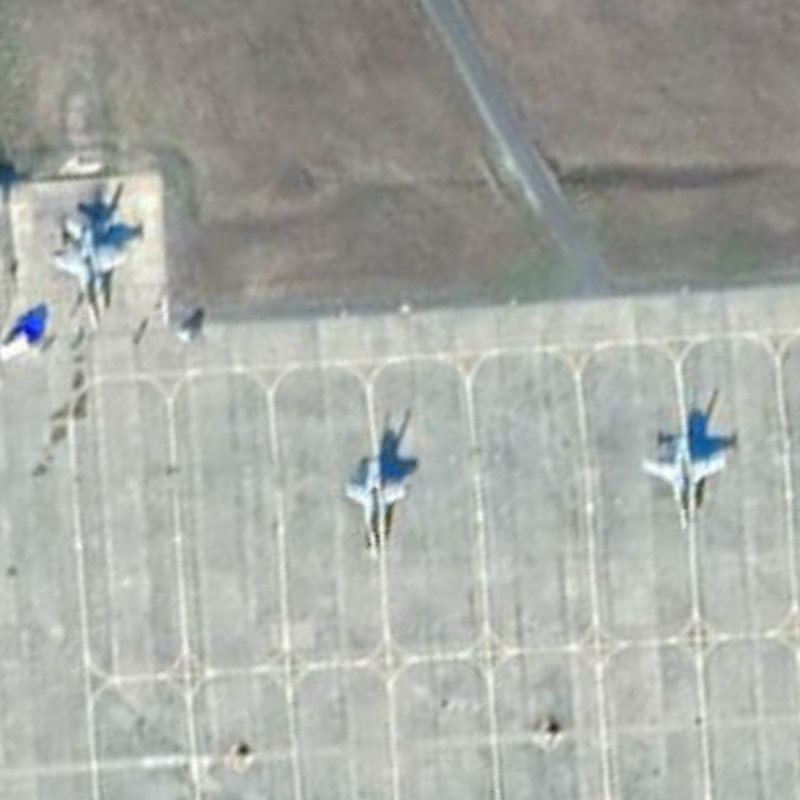A16: (637, 421, 732, 542), (47, 215, 135, 336), (331, 448, 418, 565)
